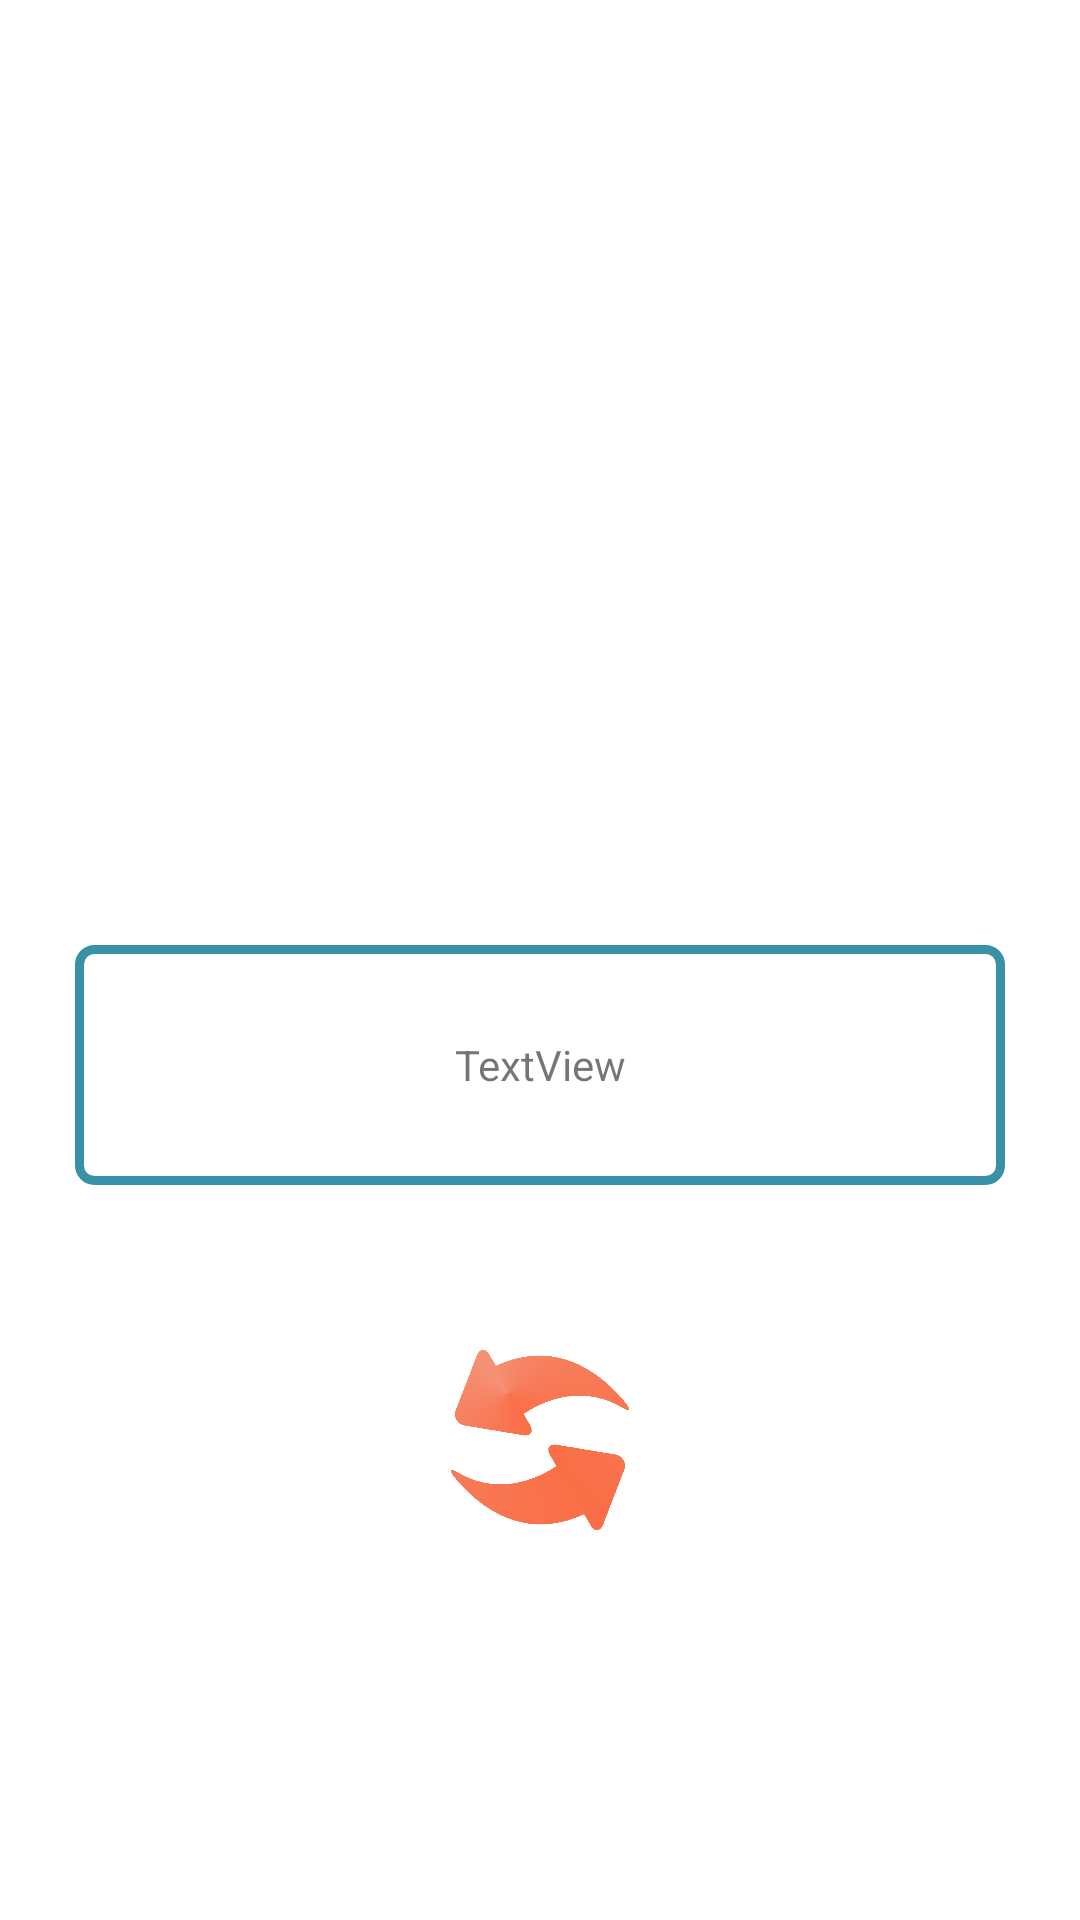

Named icons in this screenshot (1080x1920) and their centers, (x=x, y=y):
refresh: (x=540, y=1440)
